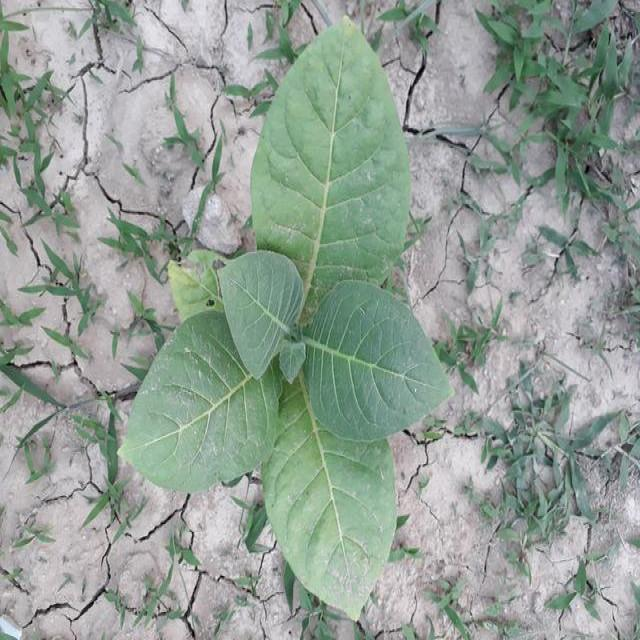crop: (146, 31, 438, 601)
